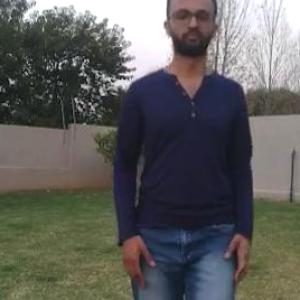follow: (141, 0, 244, 299)
